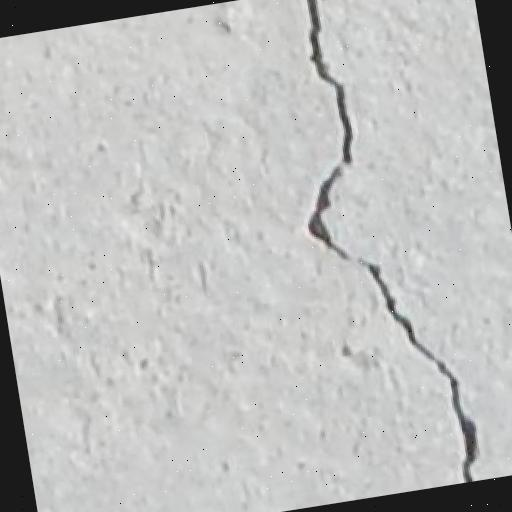spalling: (292, 1, 503, 471)
